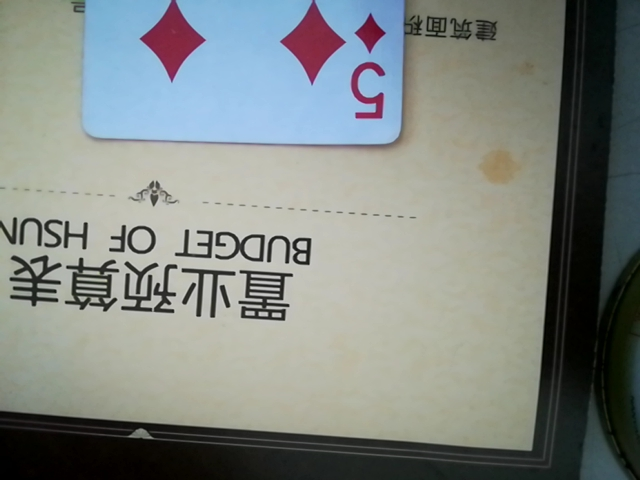fk 5: (79, 0, 423, 153)
